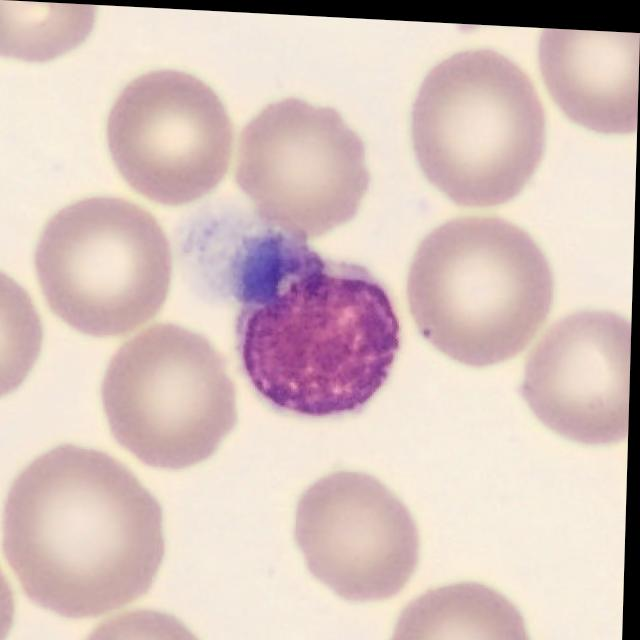Linfocito: (231, 229, 401, 413)
